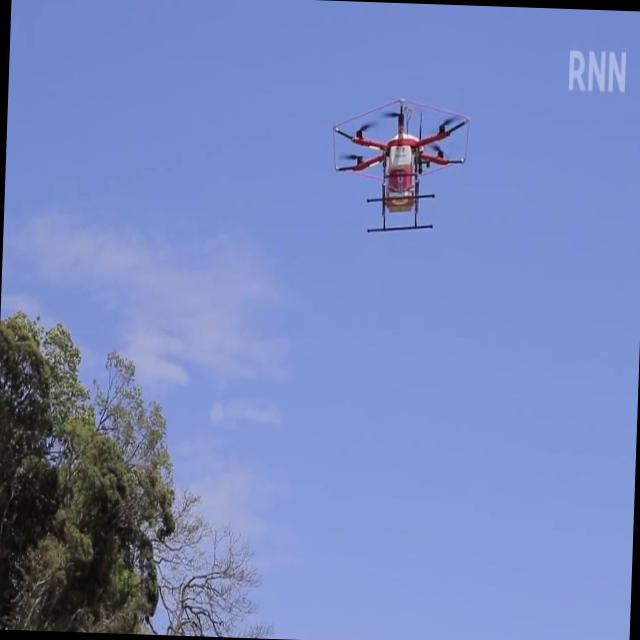drone: (330, 93, 471, 239)
